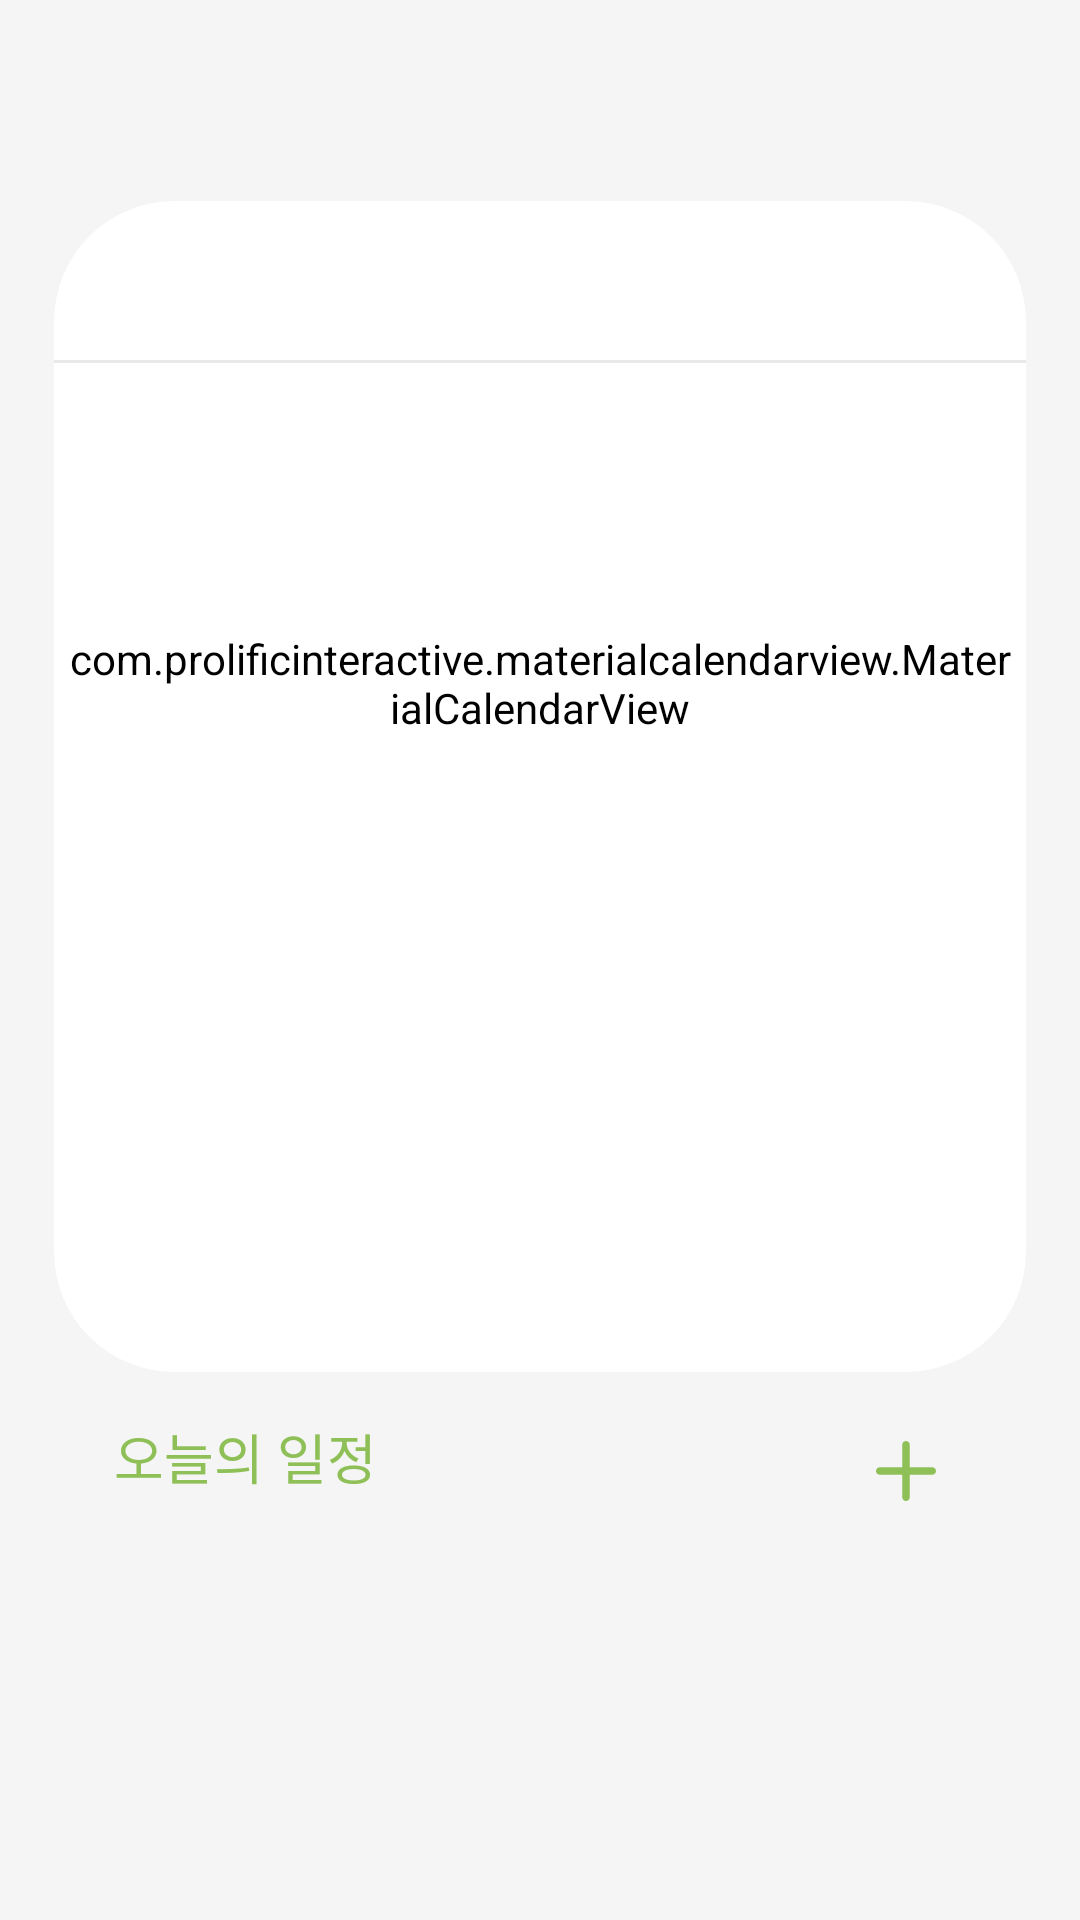

Locate icon controls on the screen. Image size 1080 × 1920, boxes as bbox(x1, y1, x2, y2).
plus plan: bbox(876, 1441, 936, 1501)
